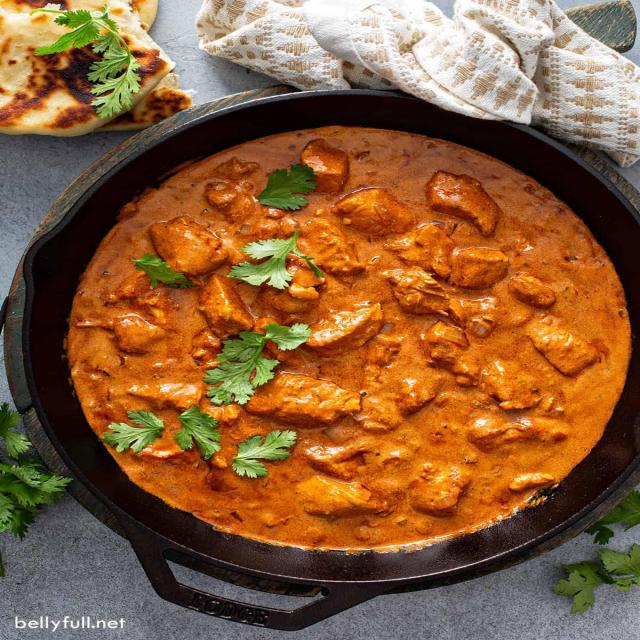chicken: (58, 135, 640, 547)
roti: (10, 13, 178, 133)
